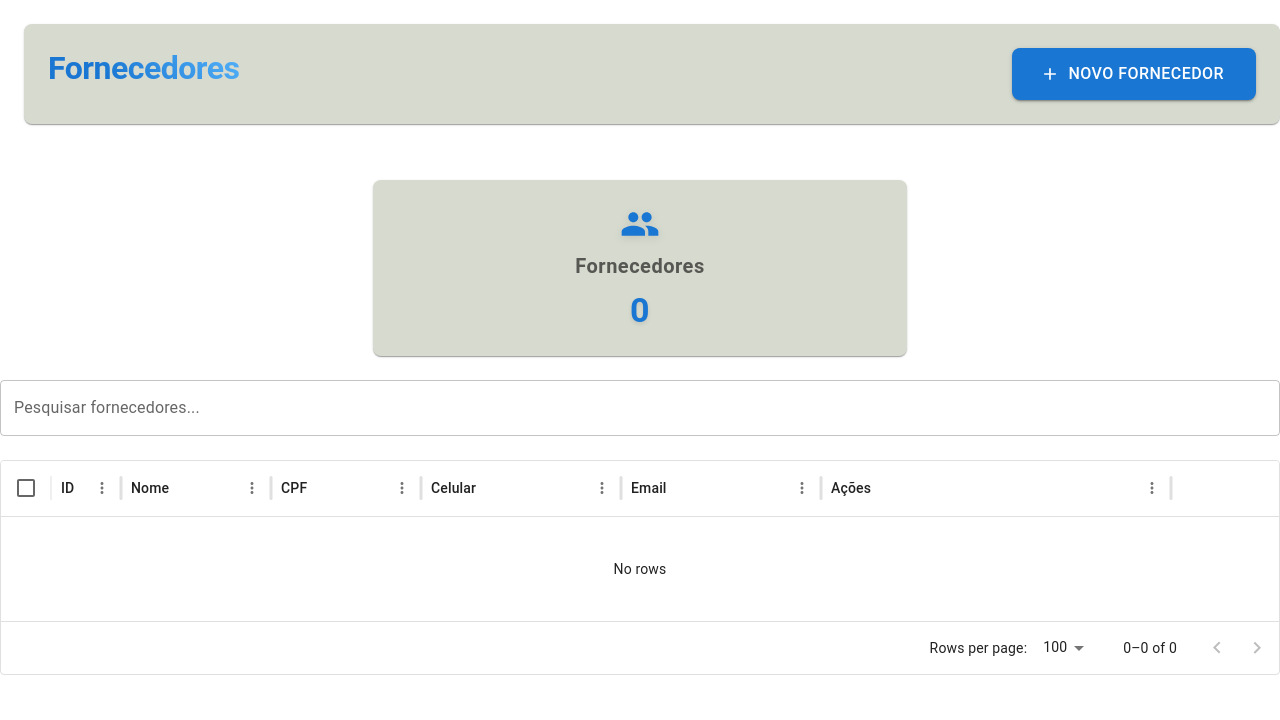
Test case: Componente Cliente › Abre formulário para novo
The image size is (1280, 720).
Step 1. Click the button "Novo Fornecedor" → point(1134, 74), box [1012,48,1256,100]
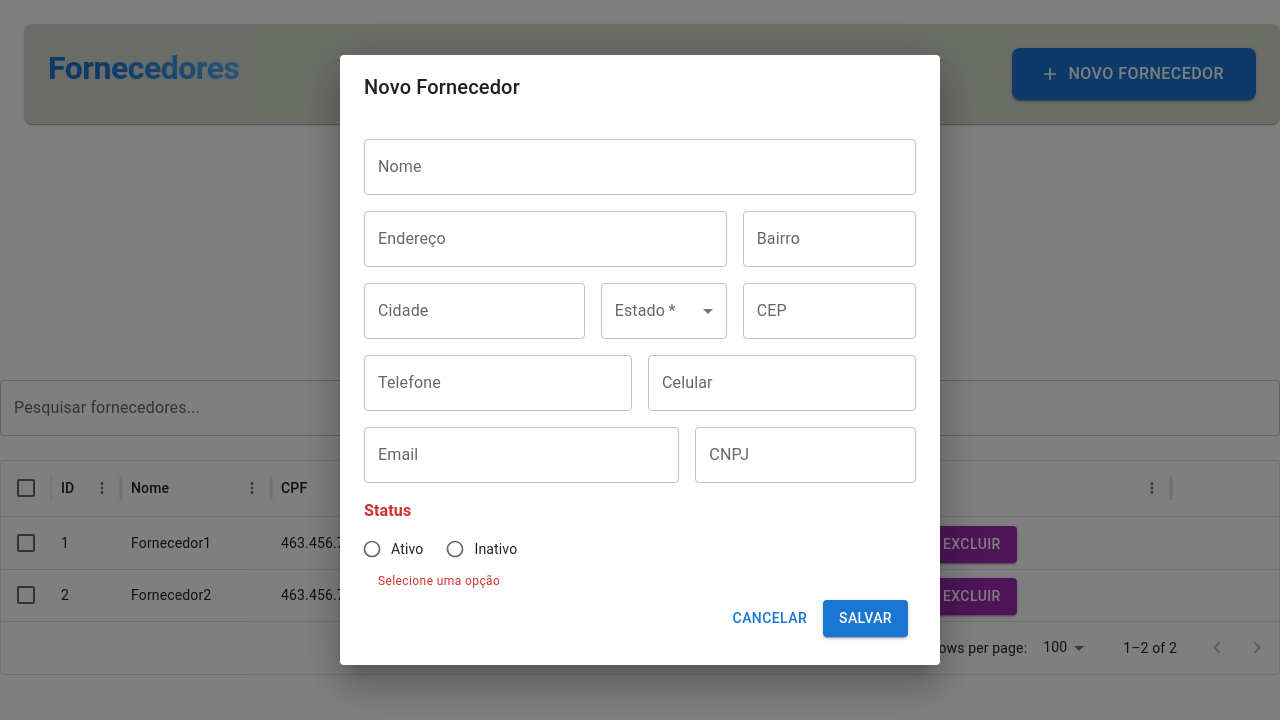
expect the dialog is shown: met, box [340,55,940,665]
